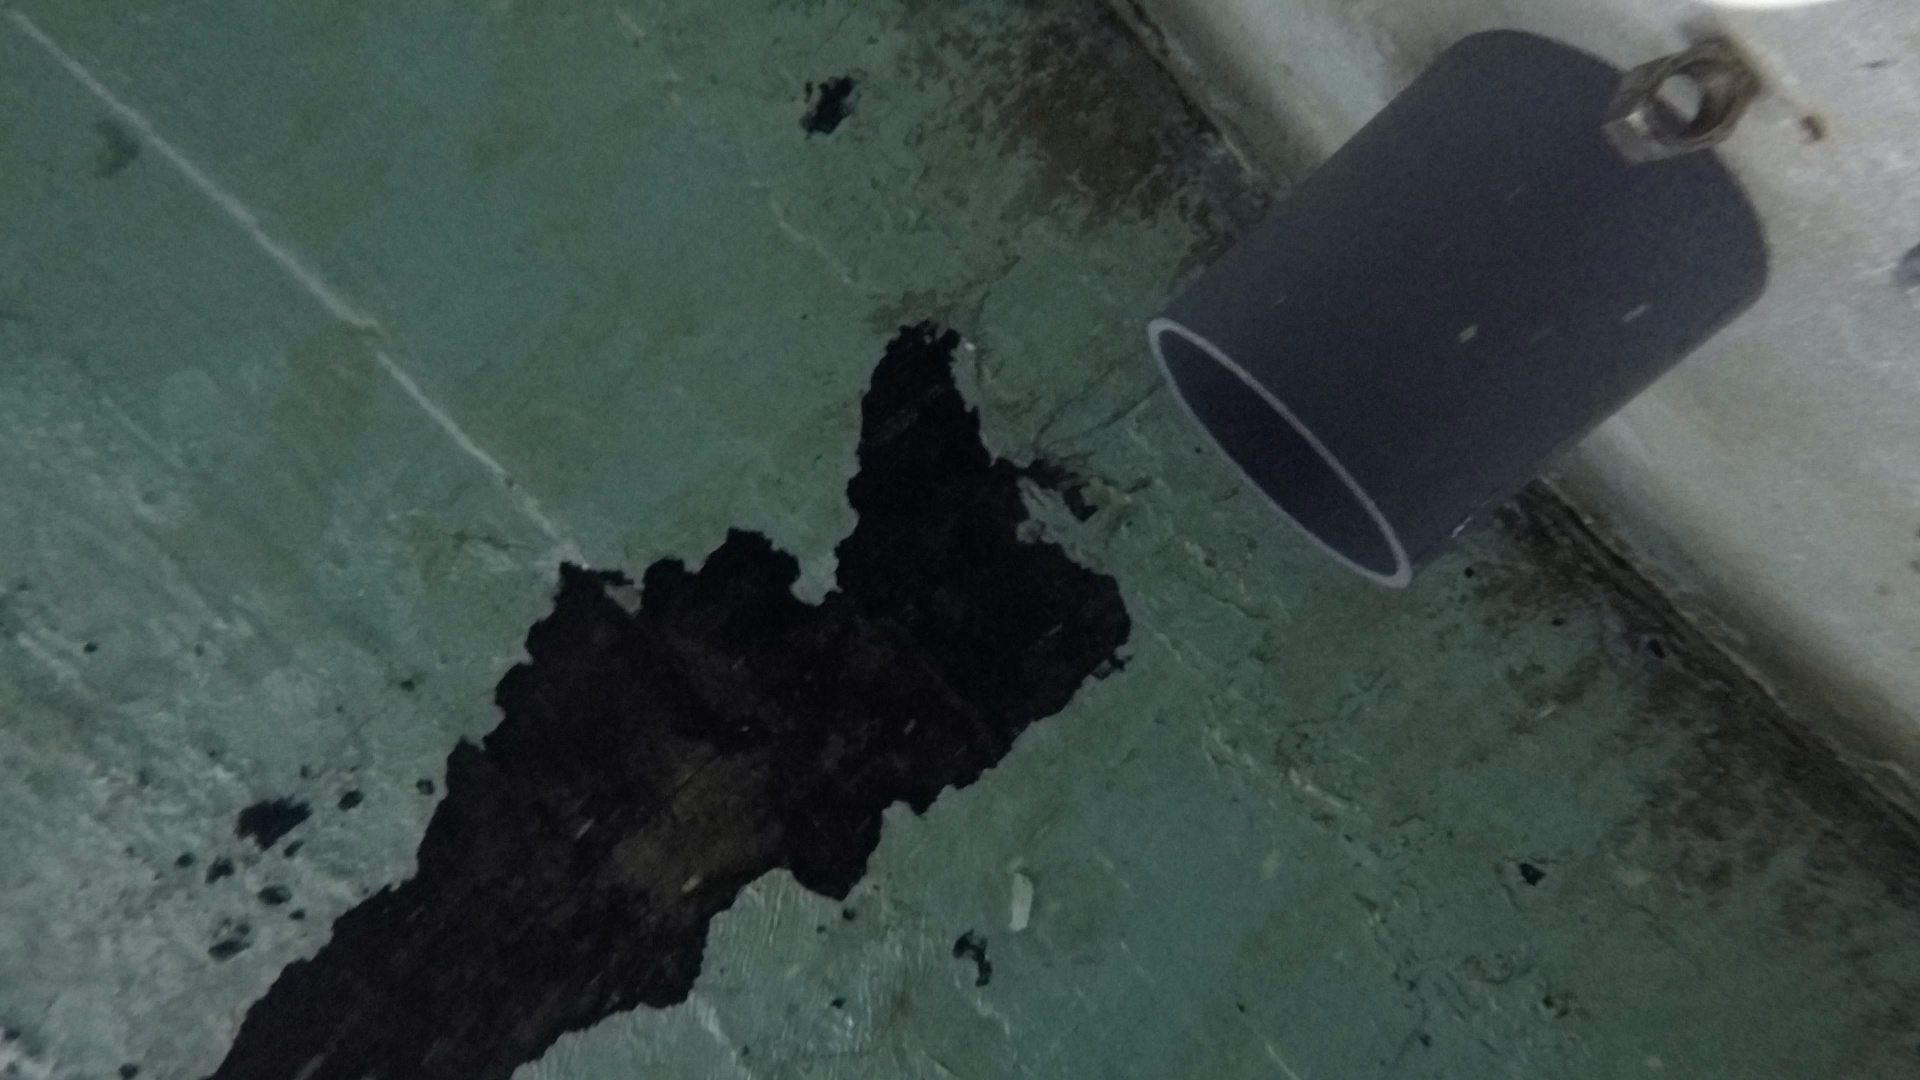nut: (1607, 38, 1764, 162)
pipe: (1150, 26, 1774, 589)
